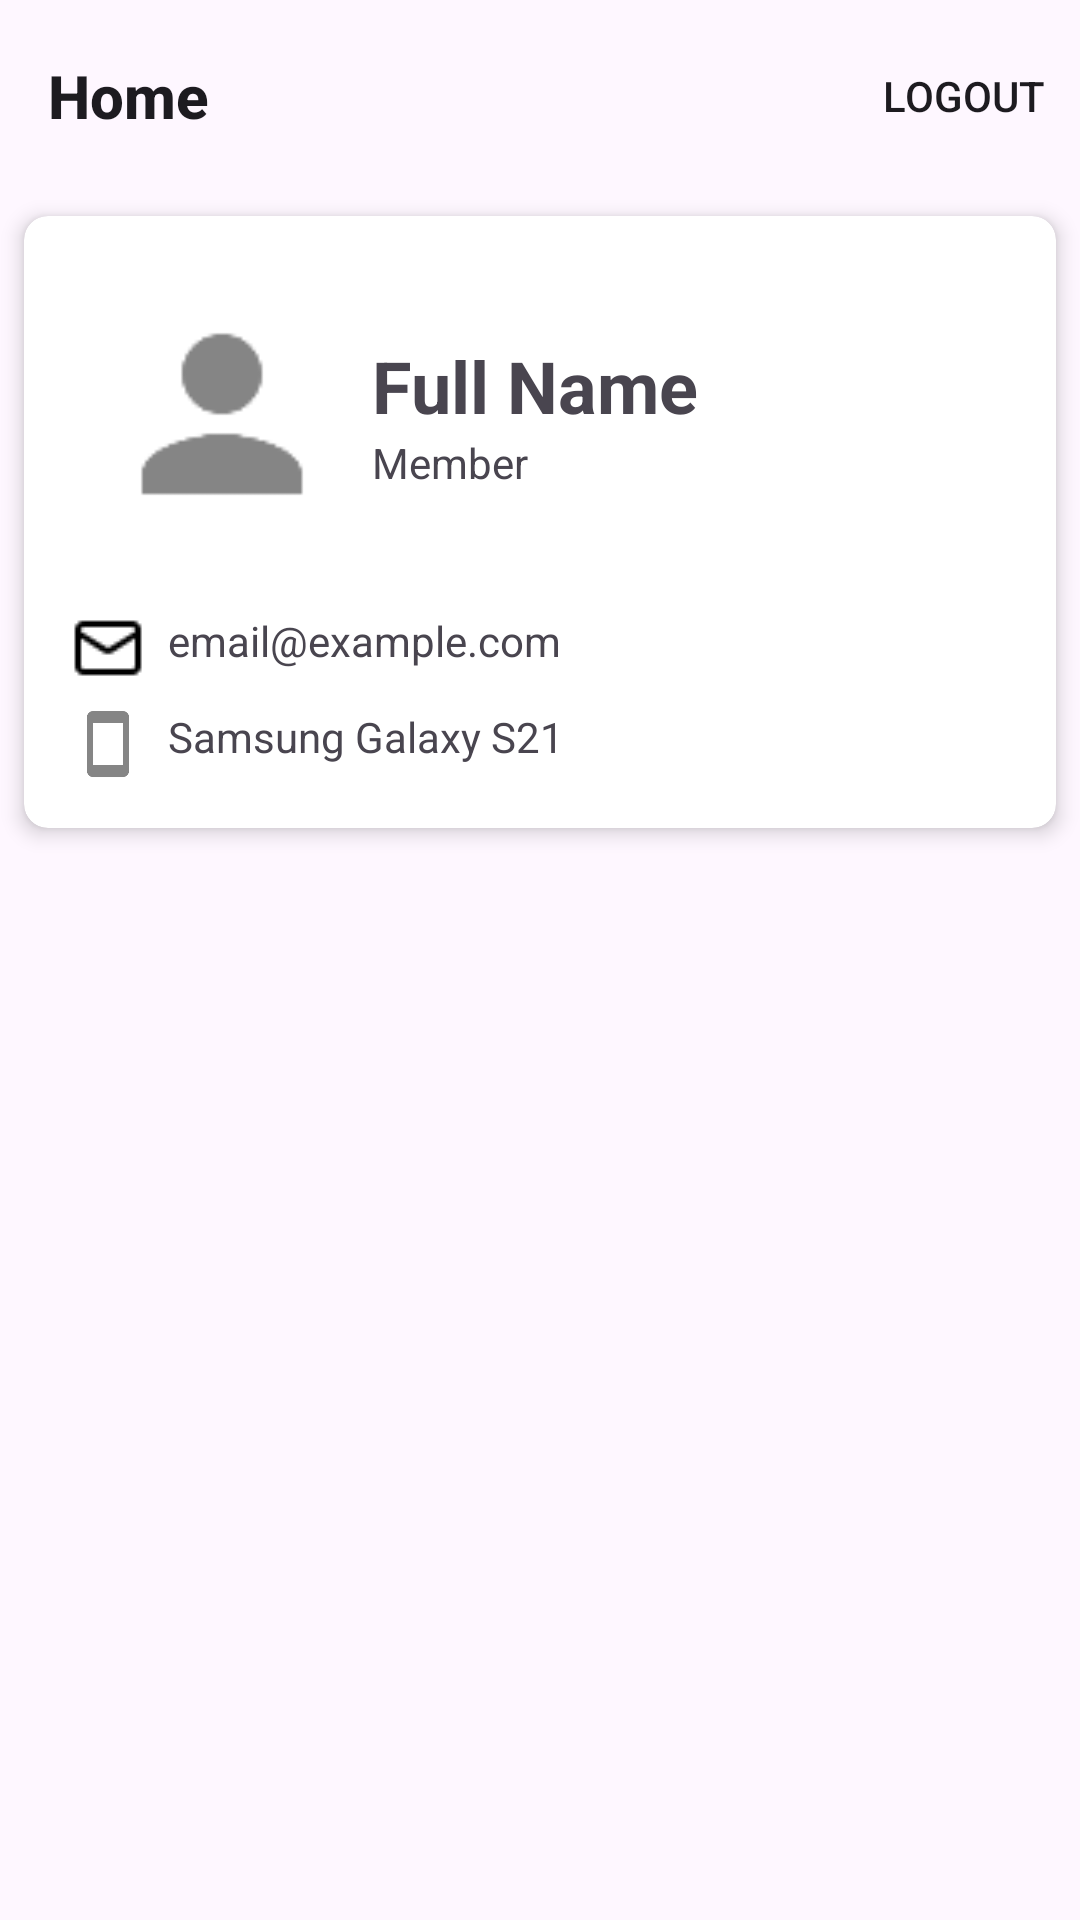

Icons on this 1080 × 1920 Android screen, each with the point to tap as [x,y]:
profile device: [108,744]
profile mail: [108,648]
